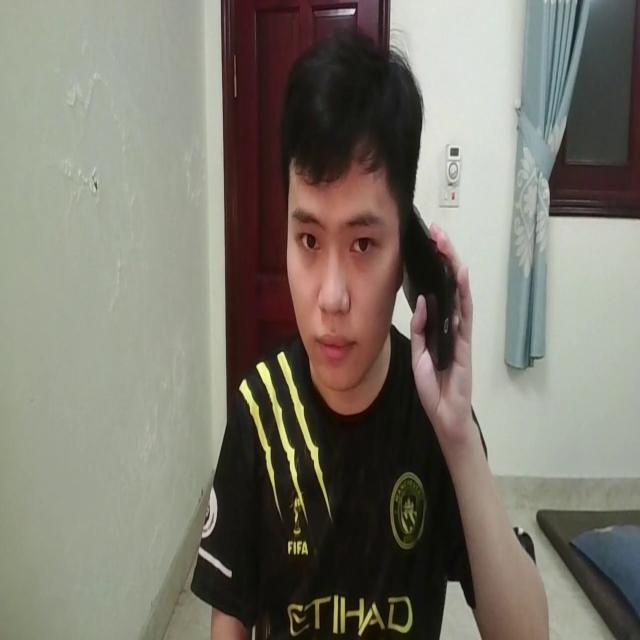phone: (399, 190, 456, 384)
student: (201, 21, 549, 640)
